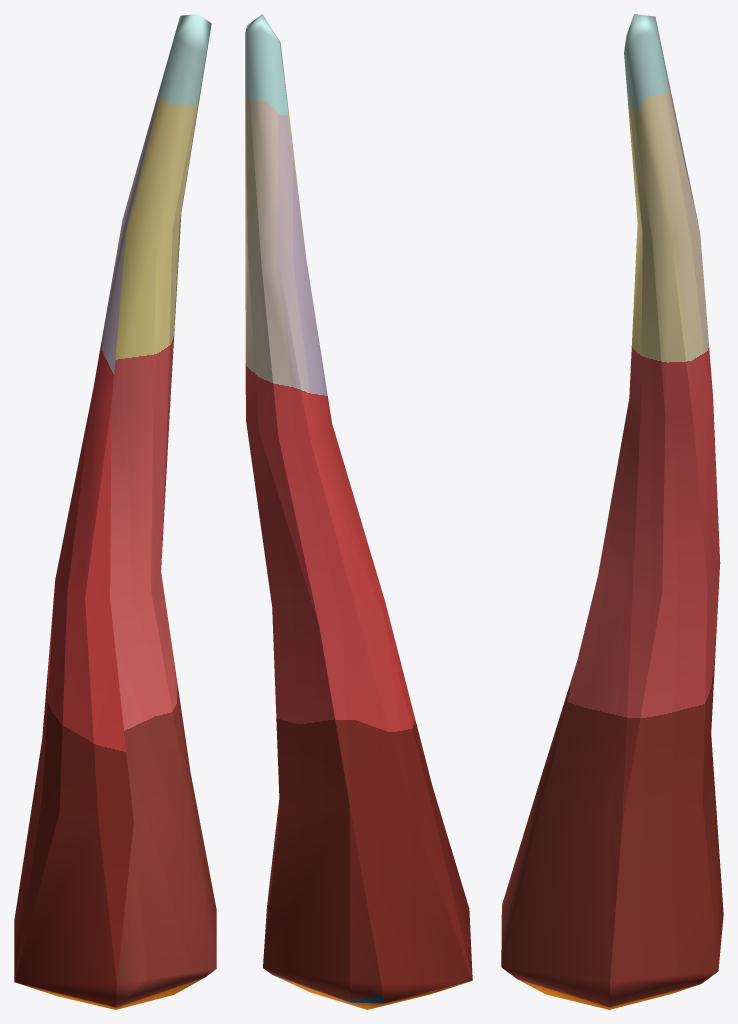
Rendered from Prop_SnowmanArm_02.glb.
3 renders of one model, left to right at view 1: azimuth 30°, elevation 25°; view 2: azimuth 150°, elevation 25°; view 3: azimuth 270°, elevation 25°, orthographic. The views are drawn at different scales.
Visible parts, largest first — view 1: Prop_SnowmanArm_02; view 2: Prop_SnowmanArm_02; view 3: Prop_SnowmanArm_02.
Boxes of the visible parts, x1=… form: Prop_SnowmanArm_02: x1=14, y1=14, x2=216, y2=1009; Prop_SnowmanArm_02: x1=245, y1=14, x2=472, y2=1009; Prop_SnowmanArm_02: x1=501, y1=14, x2=723, y2=1009.
Bounding box in the file's own units: 0.0913 × 0.3912 × 0.0772.
1 material, 1 textured.
